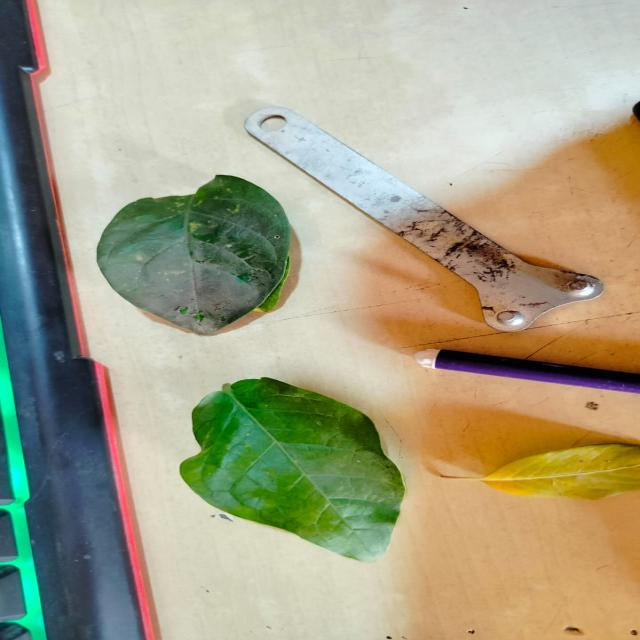Leaves: (176, 379, 406, 566), (97, 178, 300, 337), (481, 443, 640, 504)
Metal: (241, 106, 604, 334)
Pen: (407, 350, 640, 395)
